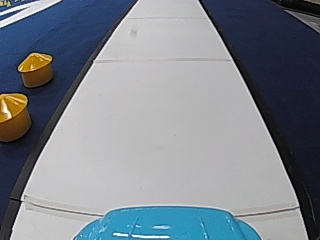granary: (0, 91, 30, 141), (15, 50, 53, 87)
